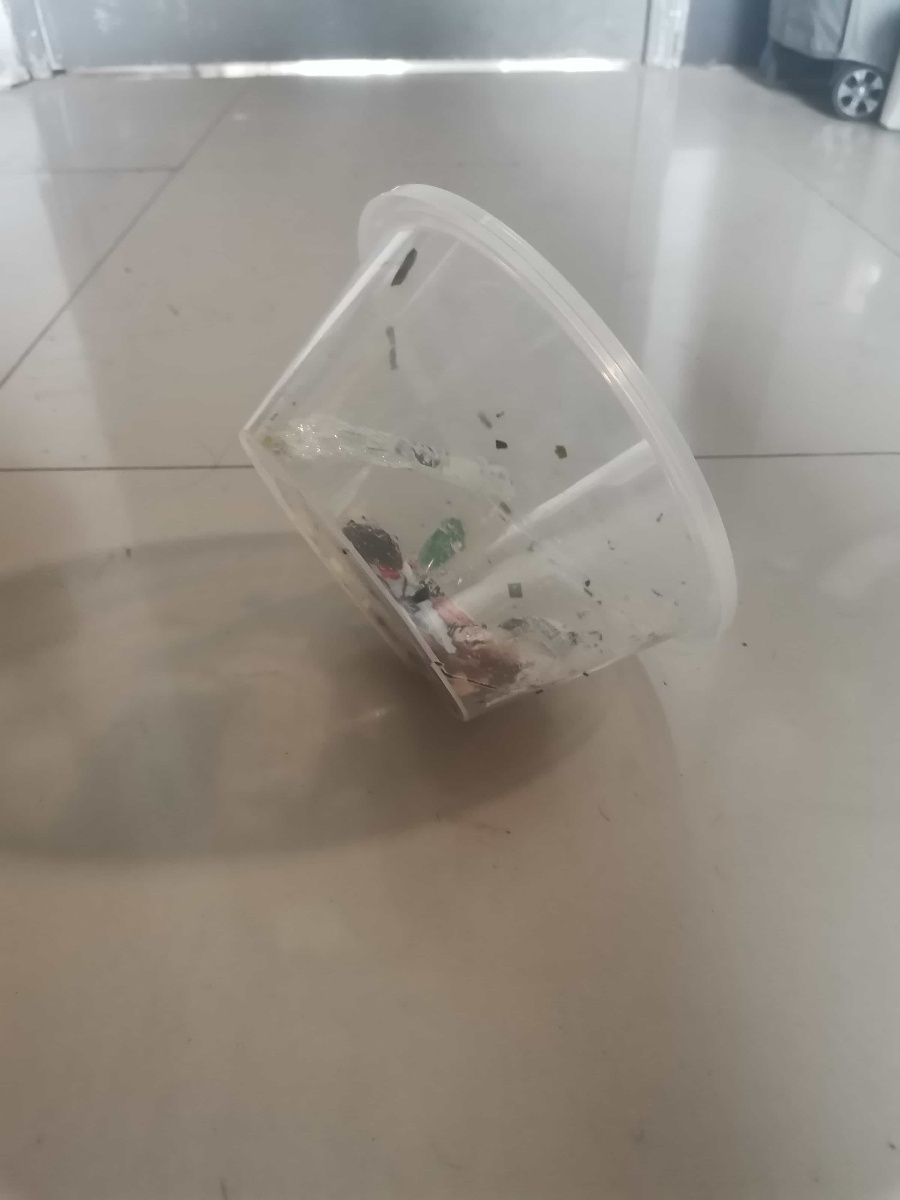fastfood box: (228, 172, 756, 726)
